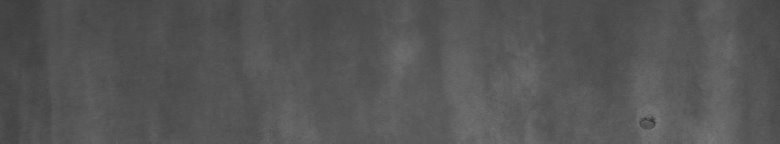fi: (636, 108, 661, 136)
